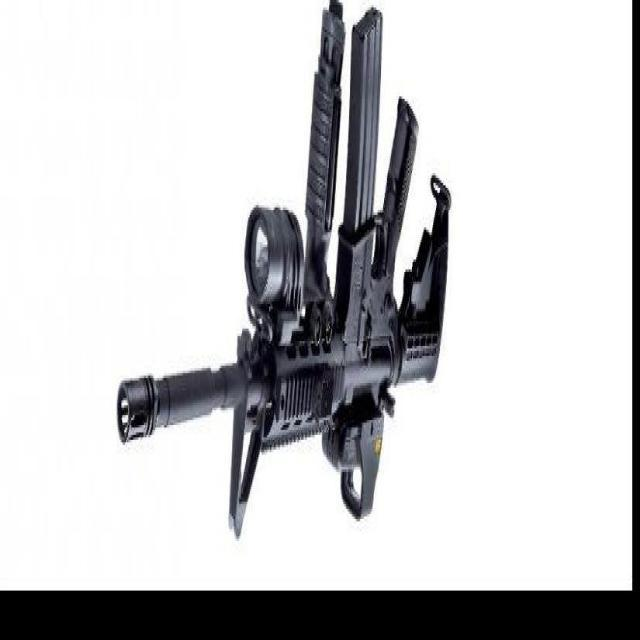weapon: (116, 2, 453, 544)
